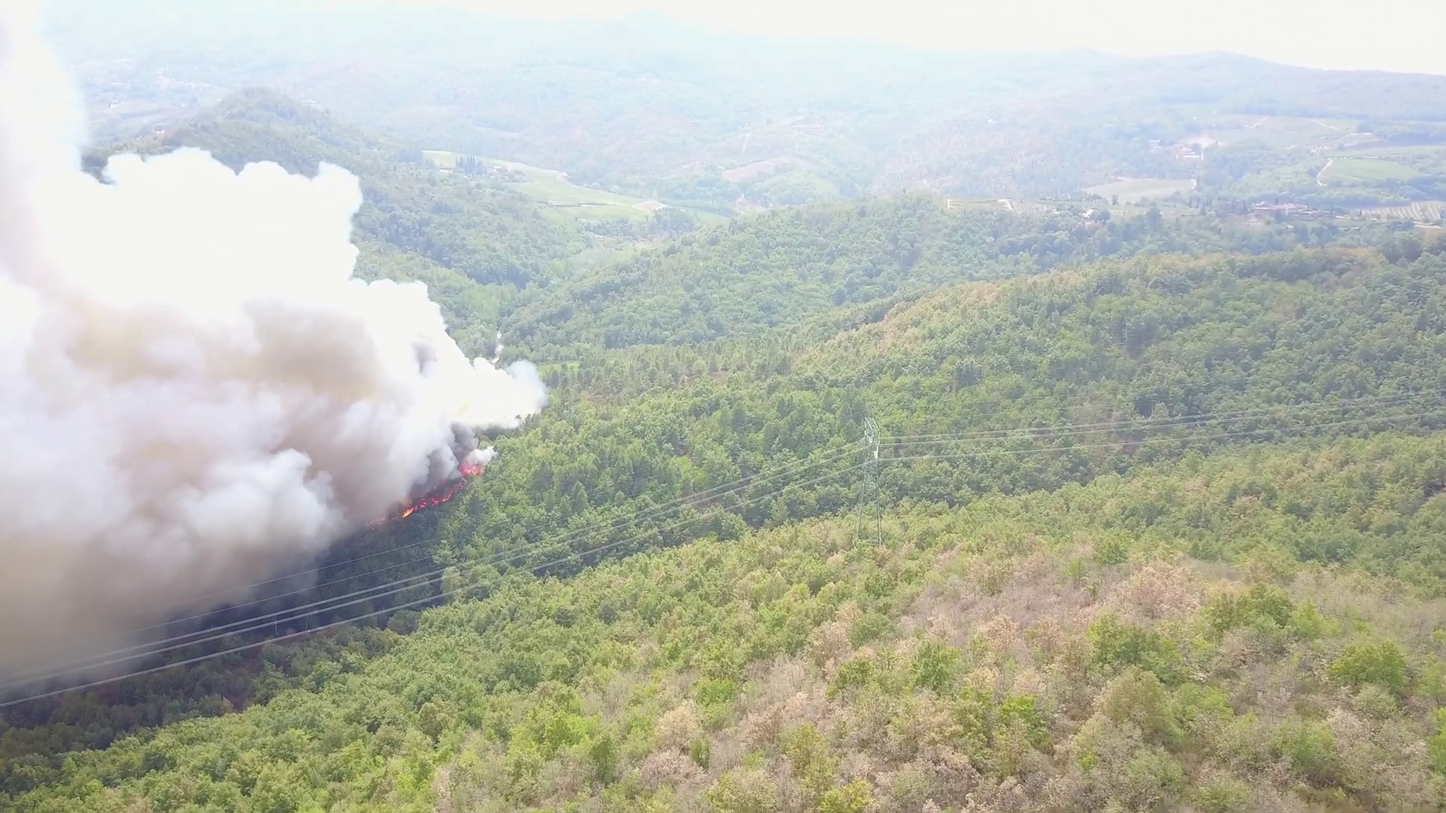forest_fire: (397, 480, 464, 518), (462, 464, 480, 478)
